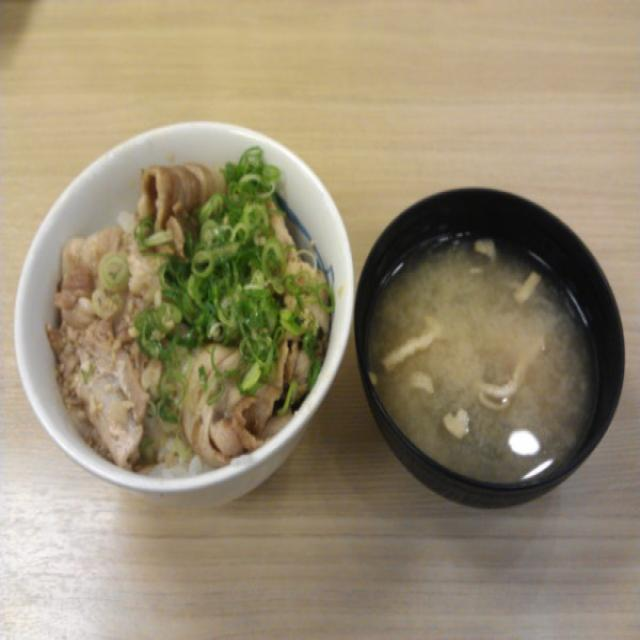汤锅炖物: (349, 176, 631, 506)
